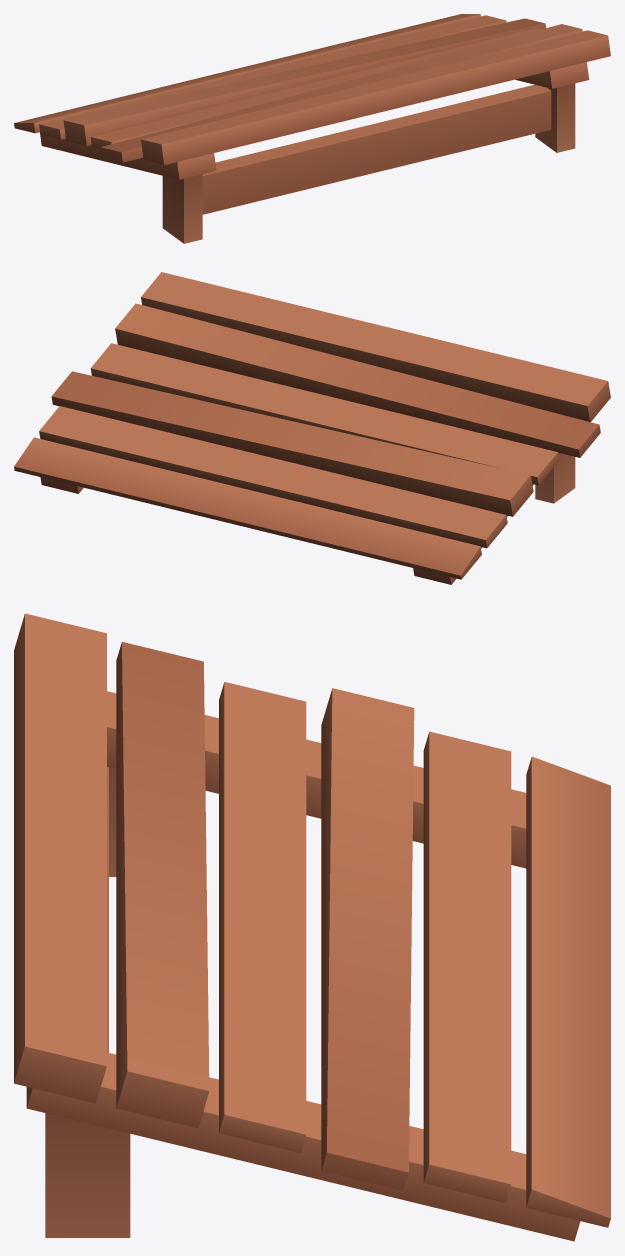
The model's file is ramp-wide.glb.
The picture shows the model from 3 angles, top to bottom: view 1: azimuth 30°, elevation 25°; view 2: azimuth 150°, elevation 25°; view 3: azimuth 270°, elevation 25°; orthographic projection. The views are drawn at different scales.
Parts seen in each view (by area): view 1: ramp-wide; view 2: ramp-wide; view 3: ramp-wide.
Part boxes in pixels (left/top/right/bottom): ramp-wide: left=14, top=14, right=610, bottom=243; ramp-wide: left=14, top=272, right=610, bottom=584; ramp-wide: left=14, top=613, right=610, bottom=1241.
Bounding box in the file's own units: 5.14 × 1.14 × 2.81.
